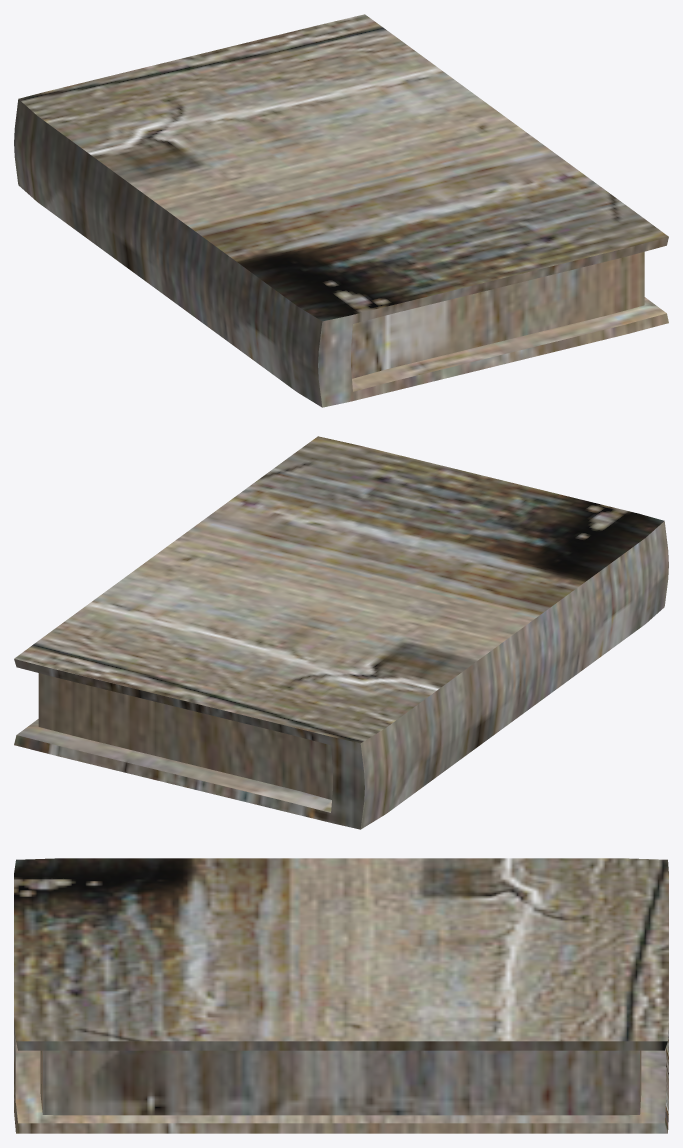
The picture shows the model from 3 angles, top to bottom: view 1: azimuth 30°, elevation 25°; view 2: azimuth 150°, elevation 25°; view 3: azimuth 270°, elevation 25°; orthographic projection. The views are drawn at different scales.
Visible parts, largest first — view 1: Spellbinder_Closed_LOD0; view 2: Spellbinder_Closed_LOD0; view 3: Spellbinder_Closed_LOD0.
Boxes of the visible parts, x1,y1,x2,y2 form: Spellbinder_Closed_LOD0: [14, 14, 668, 407]; Spellbinder_Closed_LOD0: [14, 436, 668, 829]; Spellbinder_Closed_LOD0: [14, 858, 668, 1133].
Size of the model in its own units: 0.2727 by 0.0635 by 0.4072.
